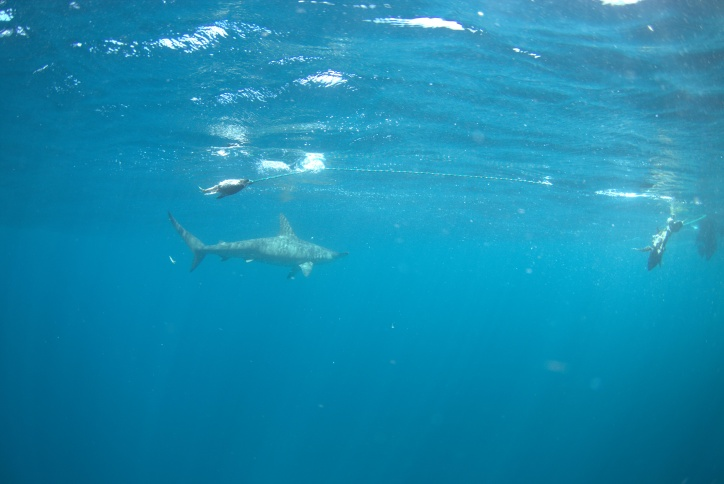Hammer: (149, 194, 361, 296)
